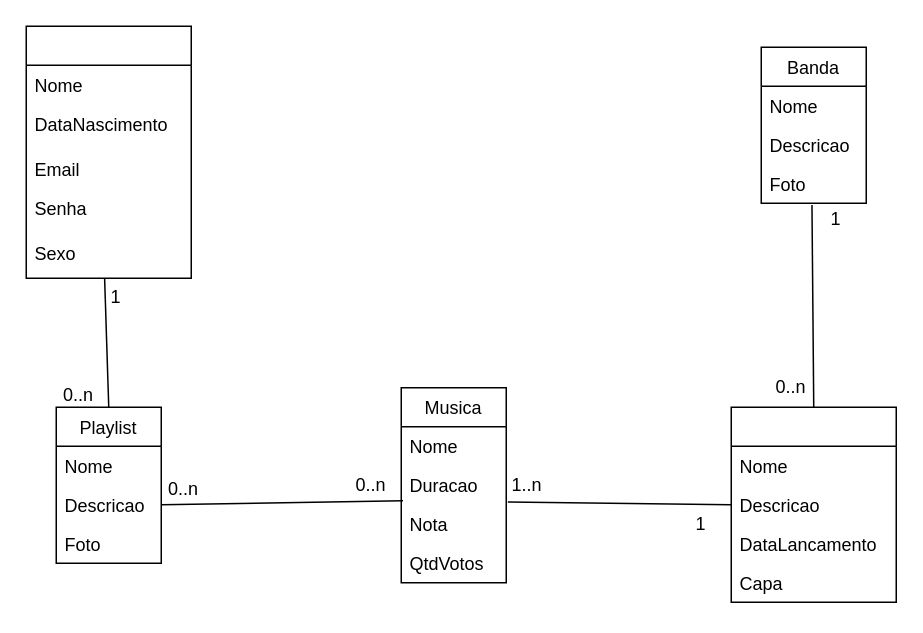
Image size: 923x633. Some labels were removed from this diagram. The shapes that lost their labels are listed below. From the top down, each one's box as (x1, y1, x2, y2) in pixels, then its label:
(25, 25, 191, 278): Usuario
(730, 406, 896, 602): Album
